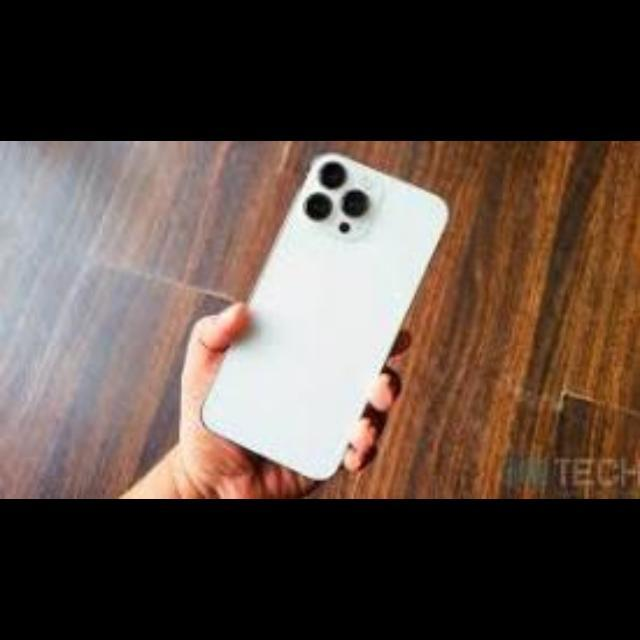Phone: (202, 154, 450, 478)
